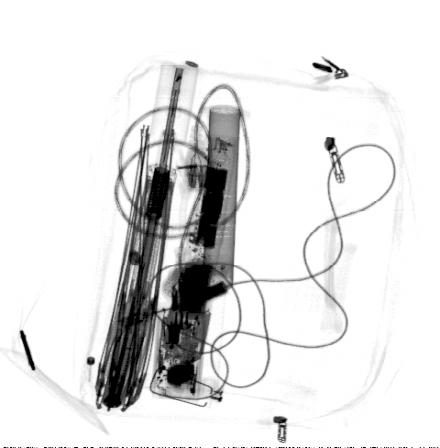Baton: (149, 102, 242, 405)
